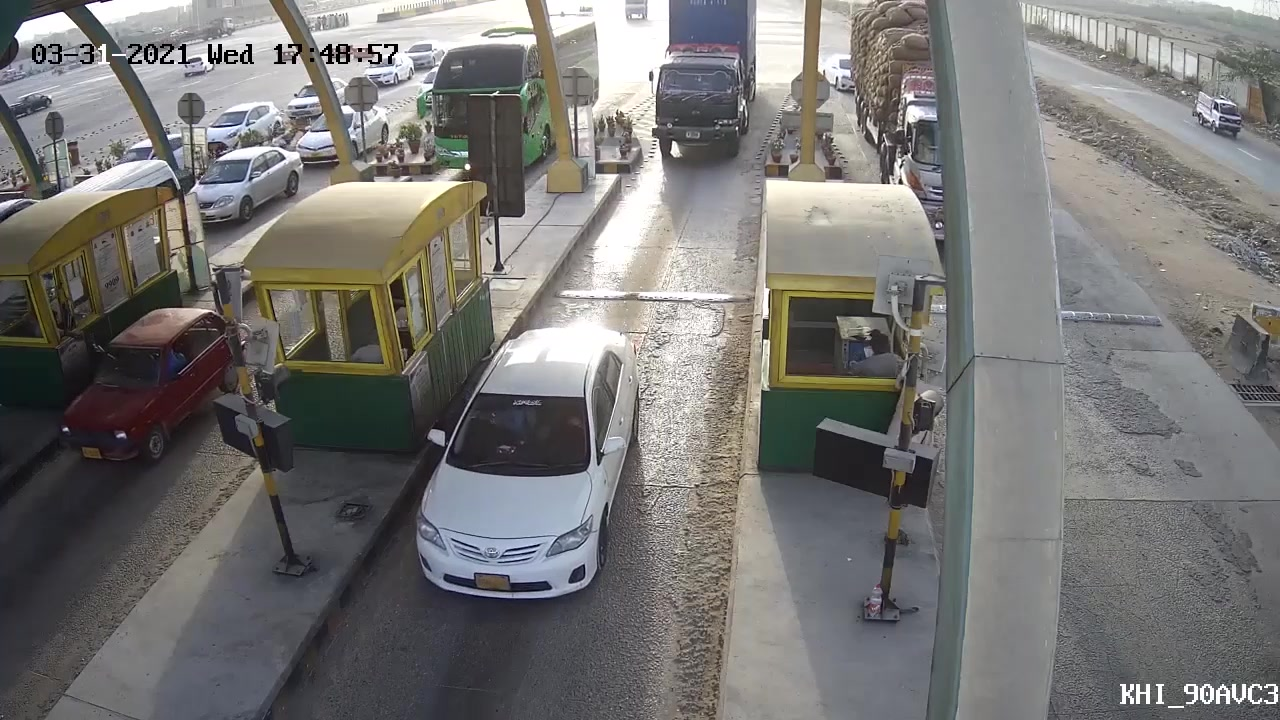F1: (387, 324, 643, 613)
F6: (650, 1, 764, 172)
